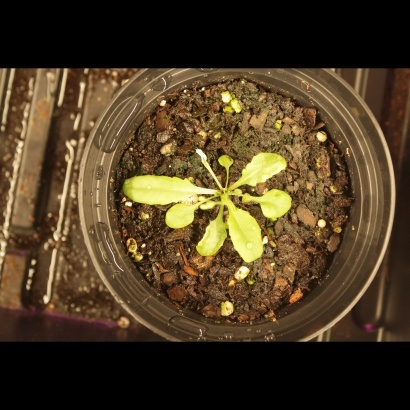leaf: (118, 171, 206, 207), (227, 201, 266, 271), (236, 150, 293, 190), (191, 213, 228, 257), (259, 188, 300, 223), (163, 200, 201, 230), (210, 147, 239, 173)
